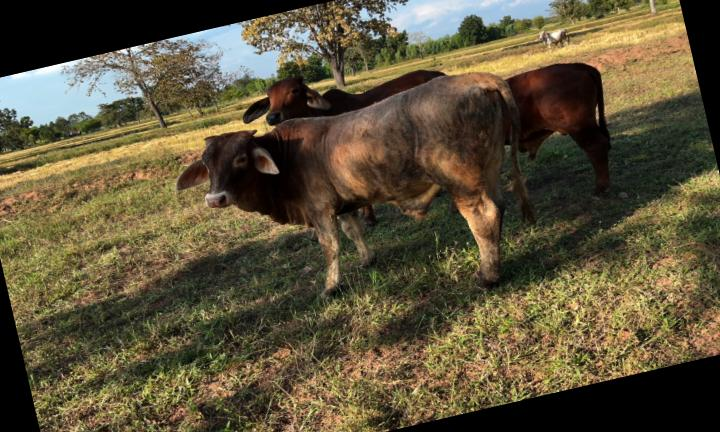Charolais: (177, 72, 520, 296)
